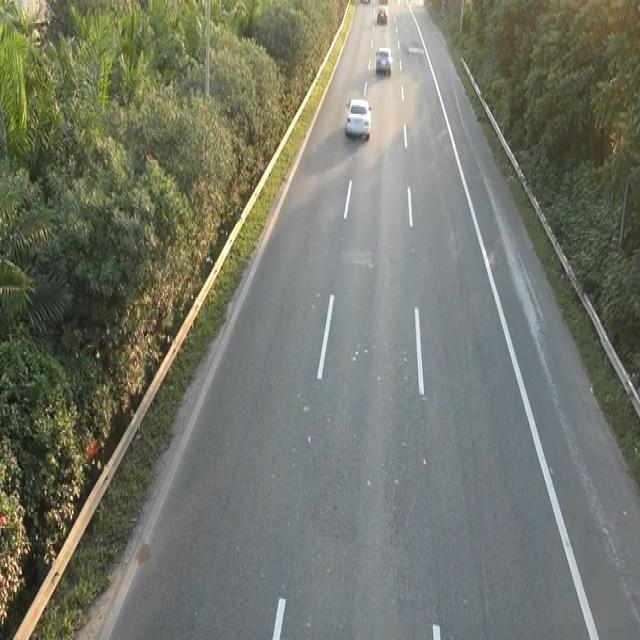bus: (342, 94, 375, 146), (374, 44, 392, 74)
